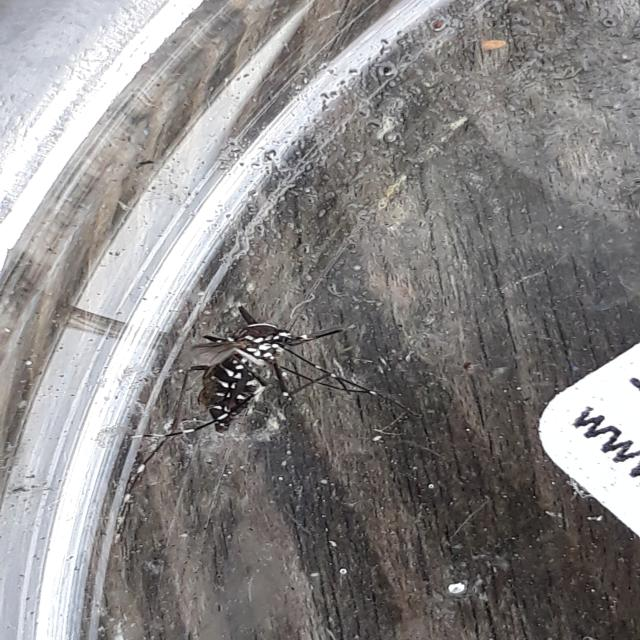albopictus: (121, 299, 412, 500)
